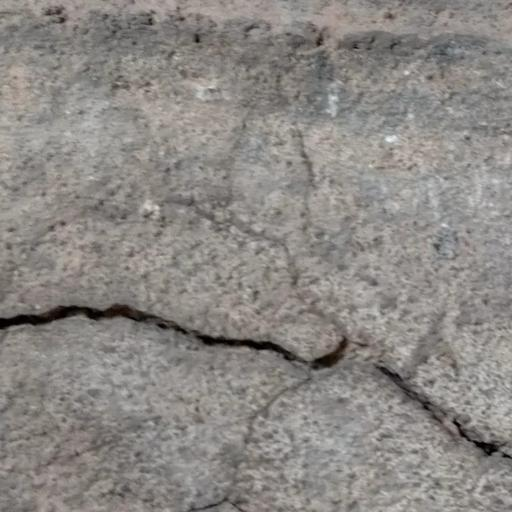major_crack: (16, 264, 512, 467)
